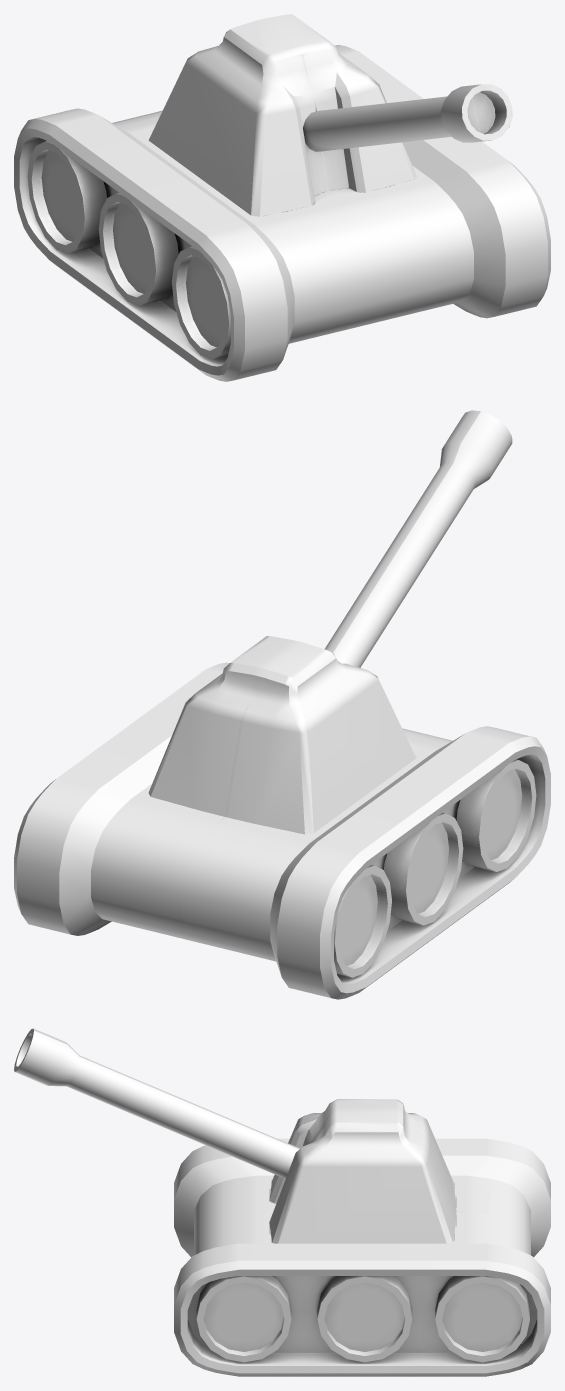
Rendered from Tank.fbx.
3 views of the same model, one above another, from view 1: azimuth 30°, elevation 25°; view 2: azimuth 150°, elevation 25°; view 3: azimuth 270°, elevation 25° (orthographic). The views are drawn at different scales.
Parts seen in each view (by area): view 1: Tank; view 2: Tank; view 3: Tank.
Boxes of the visible parts, box(x1,y1,x2,y2) form: Tank: box(14, 14, 550, 381); Tank: box(14, 410, 550, 999); Tank: box(14, 1028, 550, 1376).
Size of the model in its own units: 200 by 208 by 355.
Materials: 1 (1 with a texture image).
